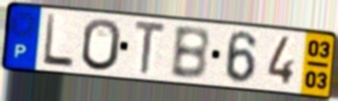4: (265, 35, 297, 88)
6: (224, 29, 261, 87)
B: (168, 25, 212, 82)
L: (41, 12, 76, 70)
O: (81, 17, 123, 73)
T: (133, 19, 168, 78)
